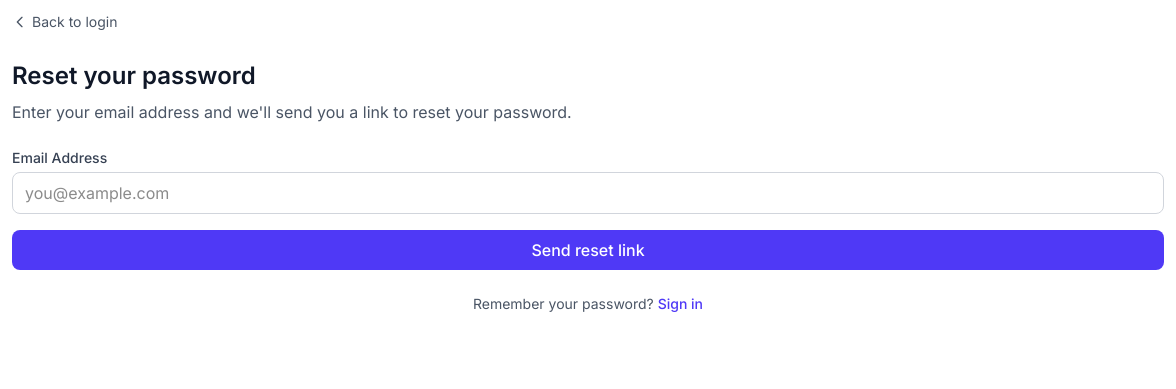
Test case: Login Page › Error Handling › displays error message on login failure
Type "wrong@example.com" into the field labelled "Email Address".
click(588, 193); type("wrong@example.com")  # box [12,172,1164,214]
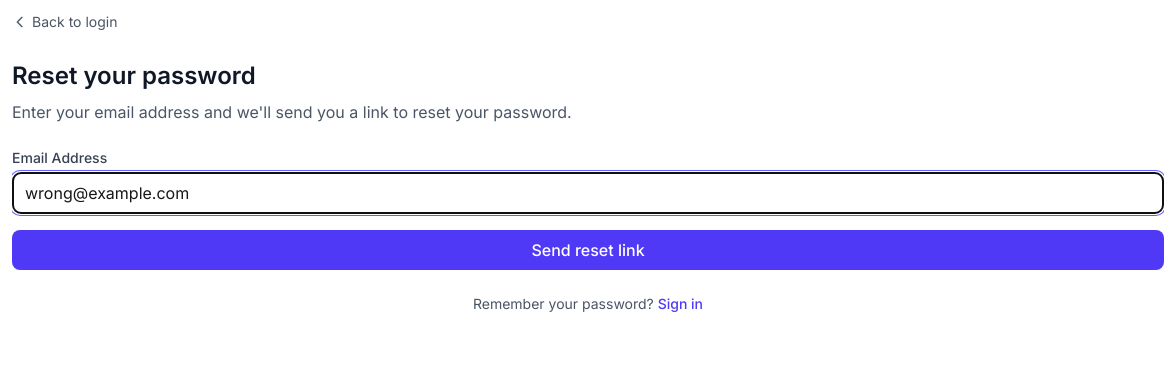
Click the button "Send reset link".
click(588, 250)  # box [12,230,1164,270]
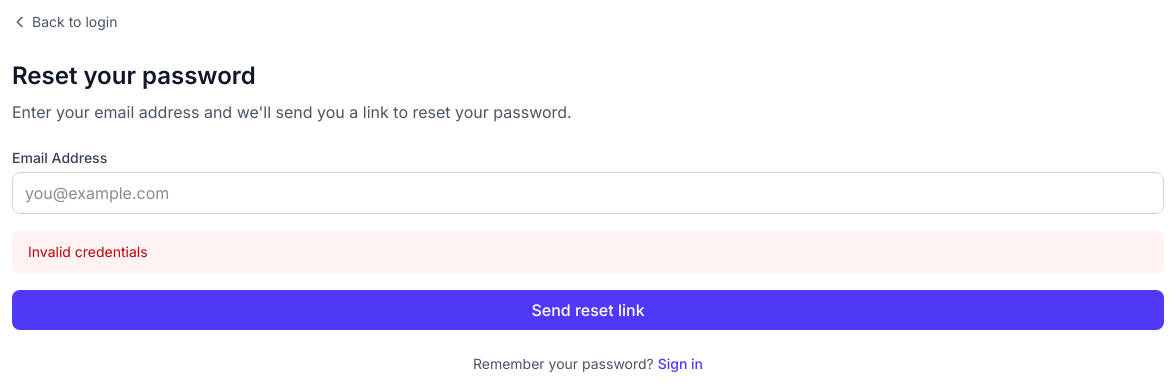
Expected: the button "Send reset link" is enabled, [12,290,1164,330]
Result: the text "Invalid credentials" is shown at [12,230,1164,274]
